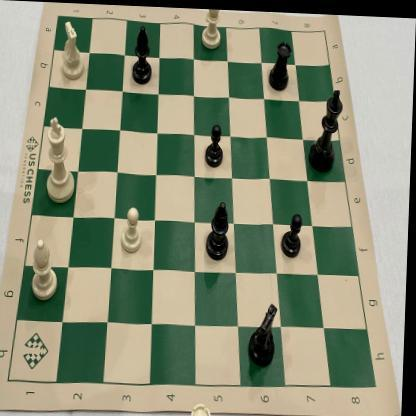black-bishop: (127, 17, 160, 89), (206, 195, 234, 263)
black-king: (305, 79, 348, 173)
black-knight: (247, 297, 288, 371)
black-pawn: (280, 207, 308, 259), (203, 117, 228, 170)
black-rook: (267, 32, 296, 95)
white-bishop: (28, 234, 63, 304), (198, 7, 226, 51)
white-king: (41, 112, 84, 207)
white-knight: (56, 11, 90, 86)
white-pawn: (120, 200, 147, 255)
